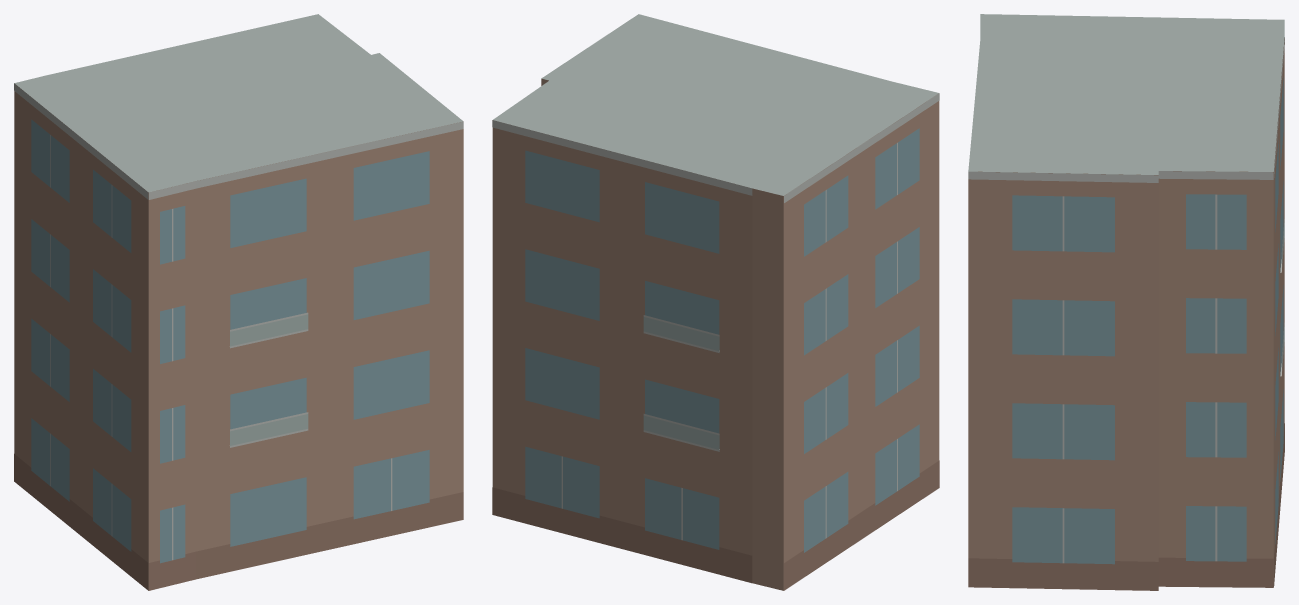
Rendered from survey-upis-32915215.glb.
3 renders of one model, left to right at view 1: azimuth 30°, elevation 25°; view 2: azimuth 150°, elevation 25°; view 3: azimuth 270°, elevation 25°, orthographic. The views are drawn at different scales.
Visible parts, largest first — view 1: survey-upis-32915215.tmp; view 2: survey-upis-32915215.tmp; view 3: survey-upis-32915215.tmp.
Part boxes in pixels (left/top/right/bottom): survey-upis-32915215.tmp: left=14, top=14, right=463, bottom=590; survey-upis-32915215.tmp: left=492, top=14, right=939, bottom=590; survey-upis-32915215.tmp: left=968, top=14, right=1284, bottom=590.
Size of the model in its own units: 10.65 by 12.8 by 8.84.
